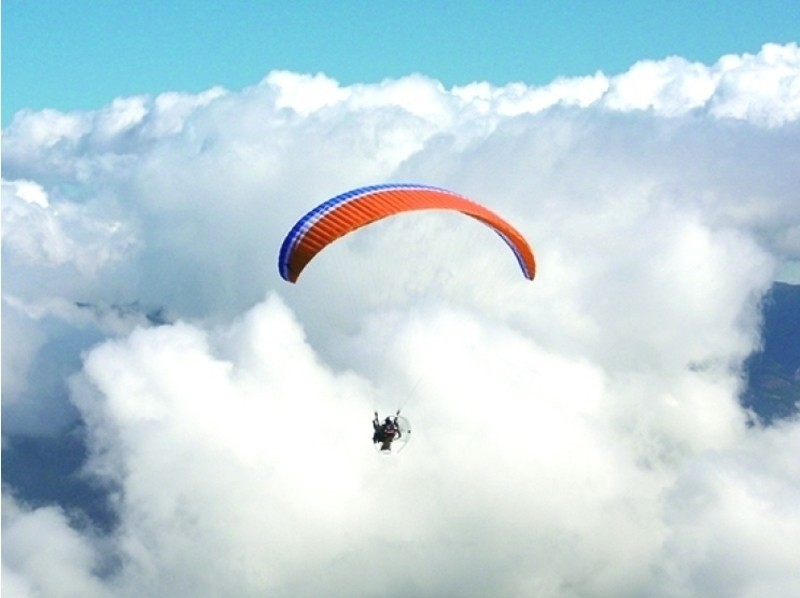Paraglider: (277, 173, 535, 312)
